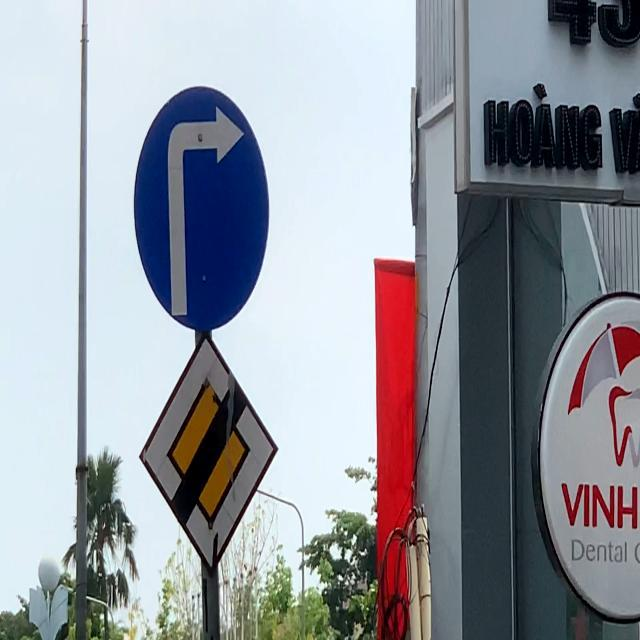Cac xe chi duoc re phai: (133, 86, 270, 334)
